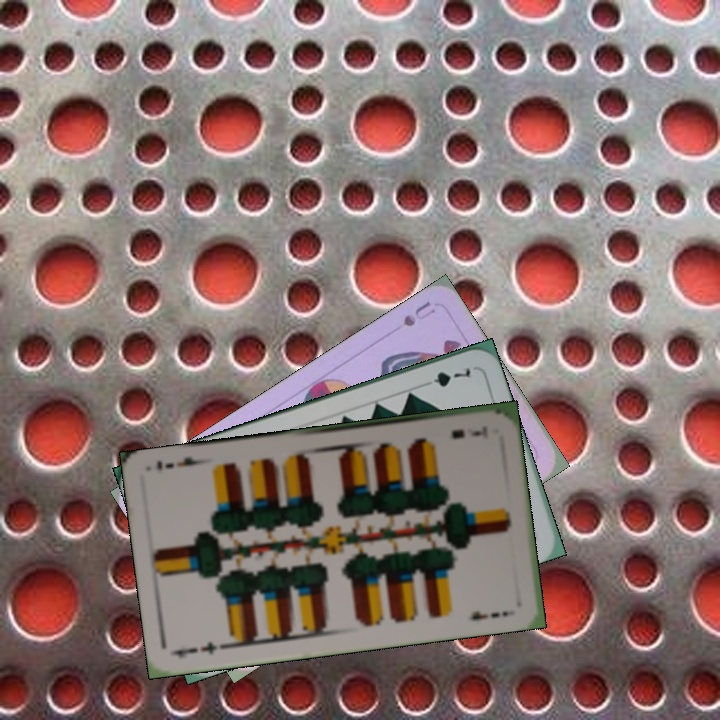E7: (170, 638, 230, 660), (447, 422, 490, 441)
G7: (418, 363, 474, 390)
SU: (399, 297, 438, 330)
